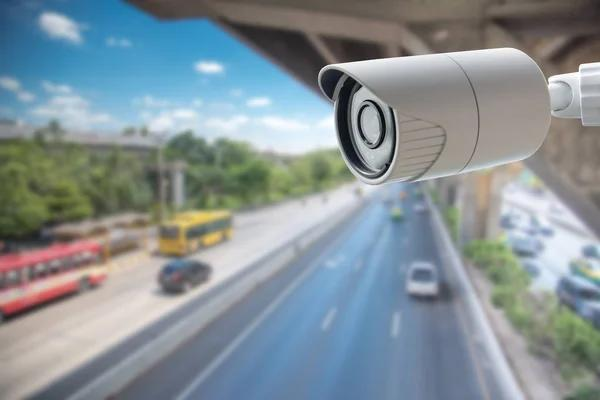Monitor: (317, 45, 599, 185)
